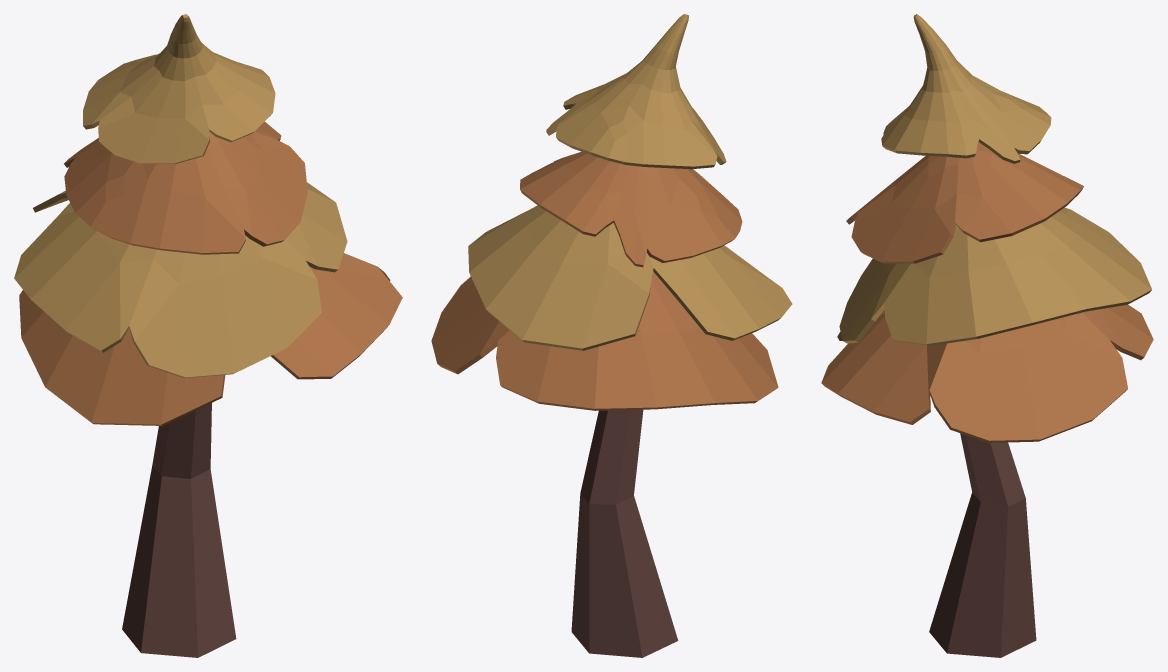
Rendered from PineTree_Autumn_5-transformed.glb.
3 renders of one model, left to right at view 1: azimuth 30°, elevation 25°; view 2: azimuth 150°, elevation 25°; view 3: azimuth 270°, elevation 25°, orthographic. The views are drawn at different scales.
Visible parts, largest first — view 1: PineTree_Autumn_5; view 2: PineTree_Autumn_5; view 3: PineTree_Autumn_5.
Boxes of the visible parts, x1=… form: PineTree_Autumn_5: x1=14, y1=14, x2=402, y2=657; PineTree_Autumn_5: x1=431, y1=14, x2=792, y2=657; PineTree_Autumn_5: x1=821, y1=14, x2=1153, y2=657.
Size of the model in its own units: 1.47 by 2.69 by 1.34.
